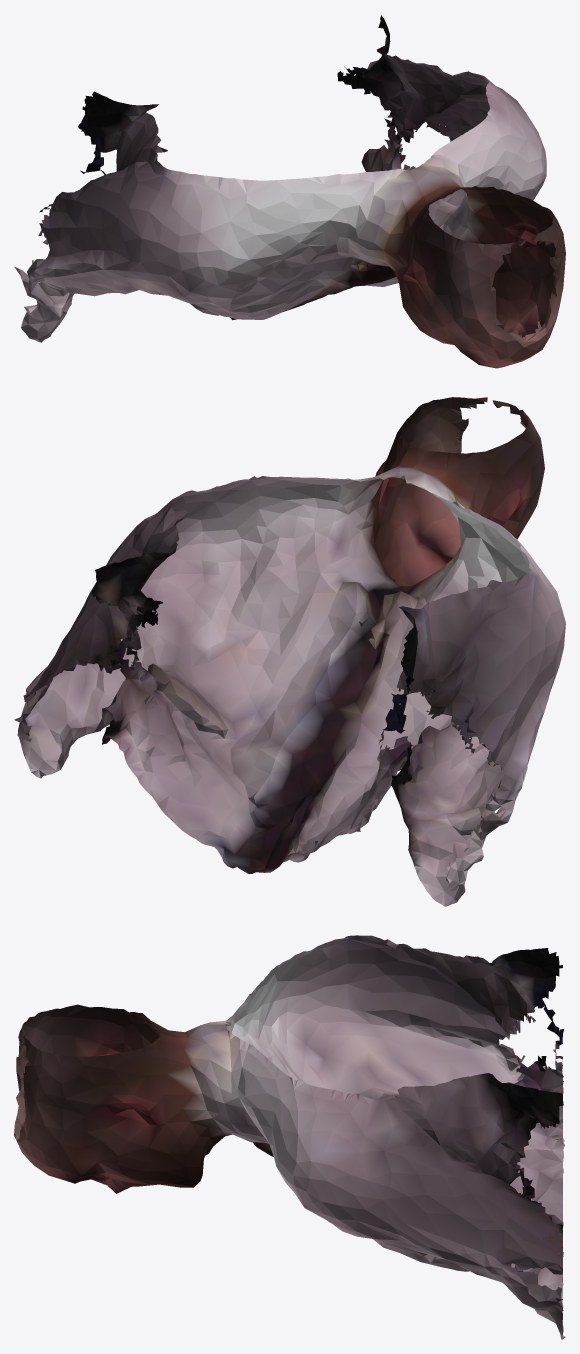
Rendered from Dan.obj.
3 views of the same model, one above another, from view 1: azimuth 30°, elevation 25°; view 2: azimuth 150°, elevation 25°; view 3: azimuth 270°, elevation 25° (orthographic). The views are drawn at different scales.
Bounding box in the file's own units: 0.6039 × 0.3252 × 0.6081.
